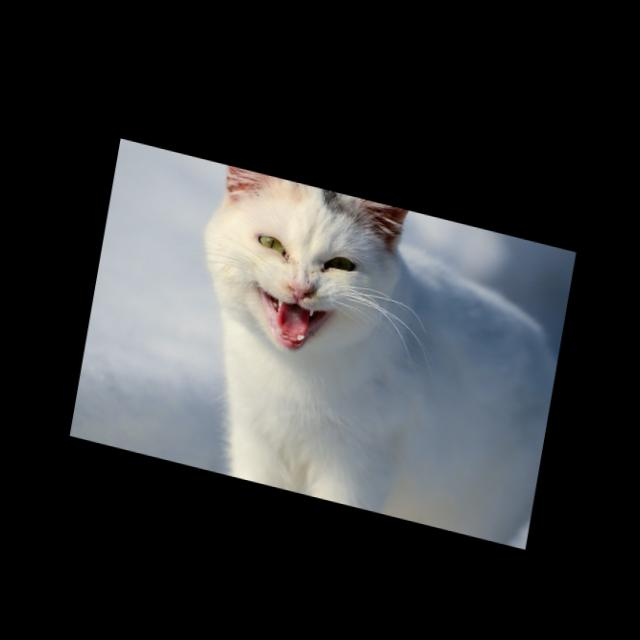animals: (161, 155, 577, 544)
